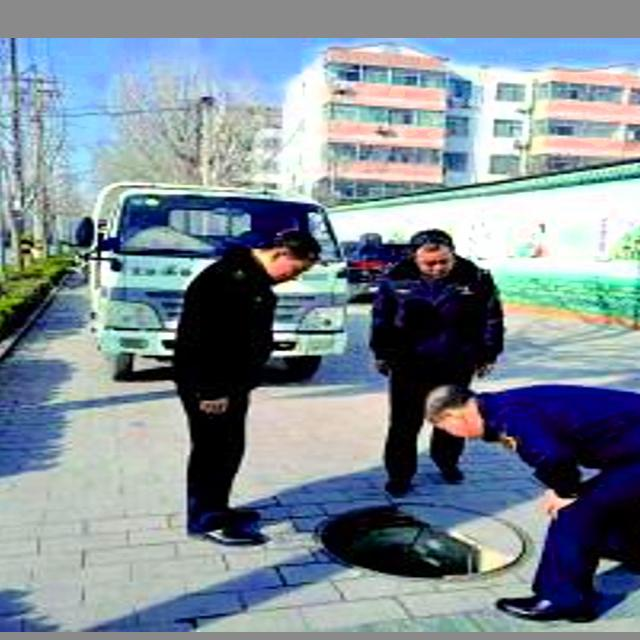broke: (295, 484, 557, 582)
